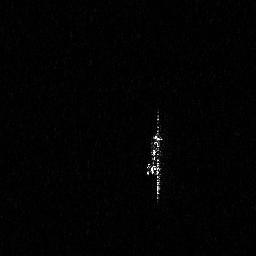ship: (144, 109, 164, 205)
